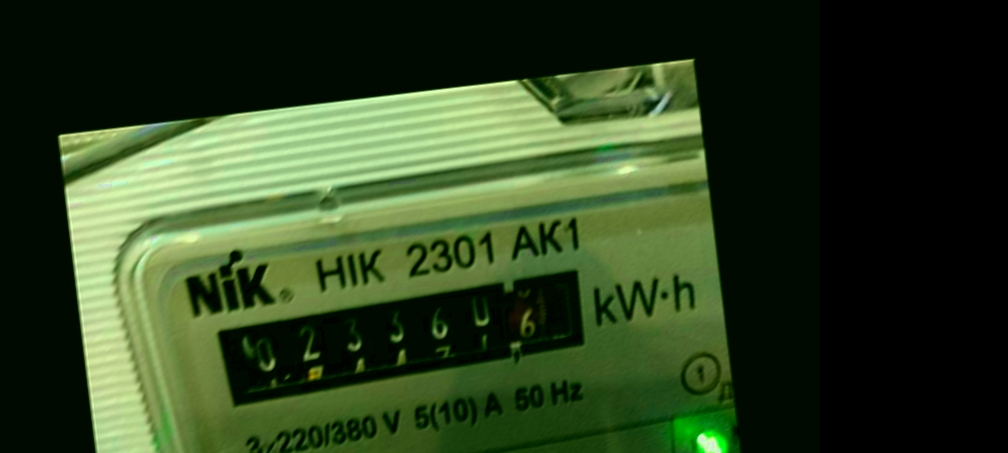0: (249, 333, 279, 377), (466, 292, 493, 331)
2: (292, 321, 322, 364)
3: (338, 314, 364, 357), (380, 307, 406, 348)
6: (421, 302, 452, 346), (514, 305, 540, 344)
screen: (191, 256, 603, 420)
